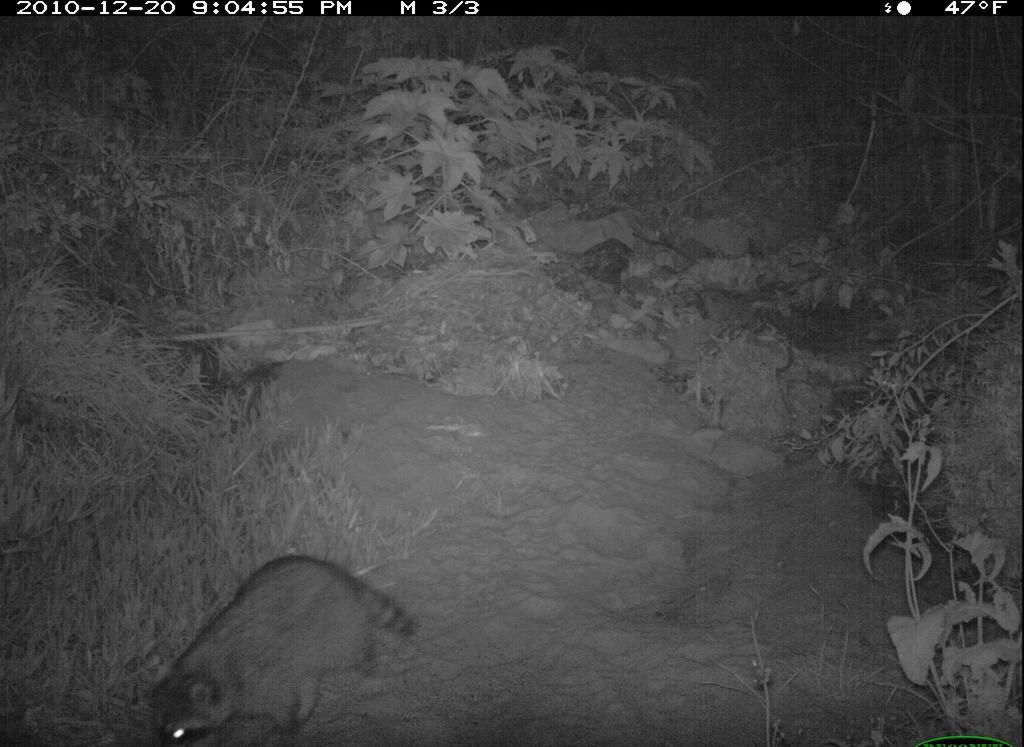raccoon: (149, 548, 422, 747)
